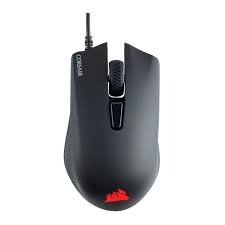mouse: (67, 39, 163, 215)
